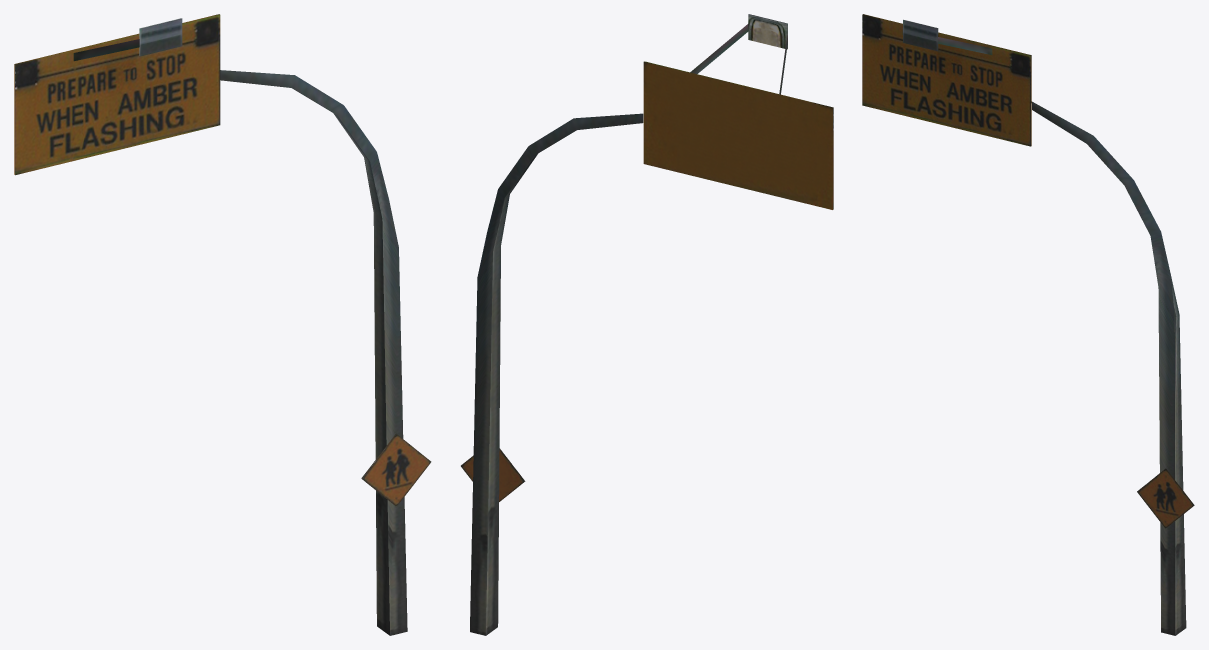
Rendered from bigsign.01.luminated.lod0.obj.
3 renders of one model, left to right at view 1: azimuth 30°, elevation 25°; view 2: azimuth 150°, elevation 25°; view 3: azimuth 330°, elevation 25°, orthographic. The views are drawn at different scales.
Parts seen in each view (by area): view 1: lampanneaujaunelowress01; view 2: lampanneaujaunelowress01; view 3: lampanneaujaunelowress01.
Part boxes in pixels (left/top/right/bottom): lampanneaujaunelowress01: left=14, top=14, right=431, bottom=635; lampanneaujaunelowress01: left=461, top=14, right=833, bottom=635; lampanneaujaunelowress01: left=862, top=14, right=1194, bottom=635.
Bounding box in the file's own units: 2123 × 3460 × 404.
1 material, 1 textured.
